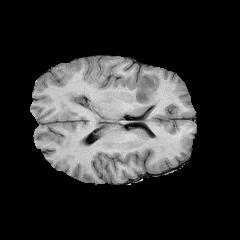glioma: (58, 73, 159, 119)
